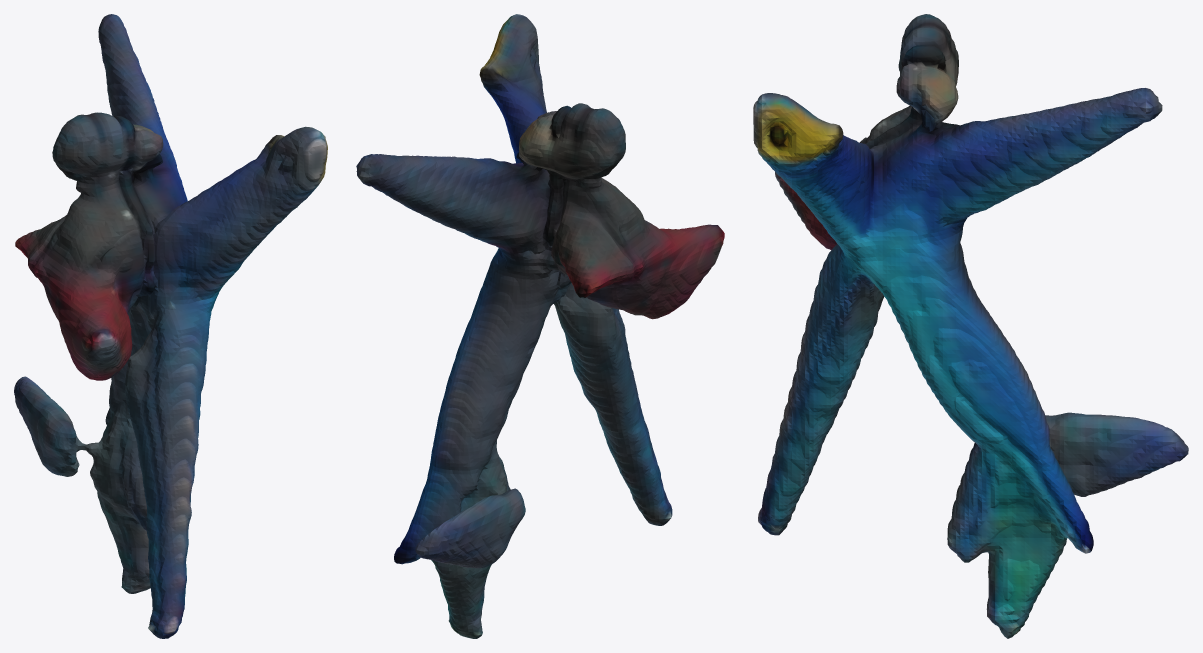
3 renders of one model, left to right at view 1: azimuth 30°, elevation 25°; view 2: azimuth 150°, elevation 25°; view 3: azimuth 270°, elevation 25°, orthographic. The views are drawn at different scales.
Size of the model in its own units: 0.4524 by 0.9969 by 0.6883.
